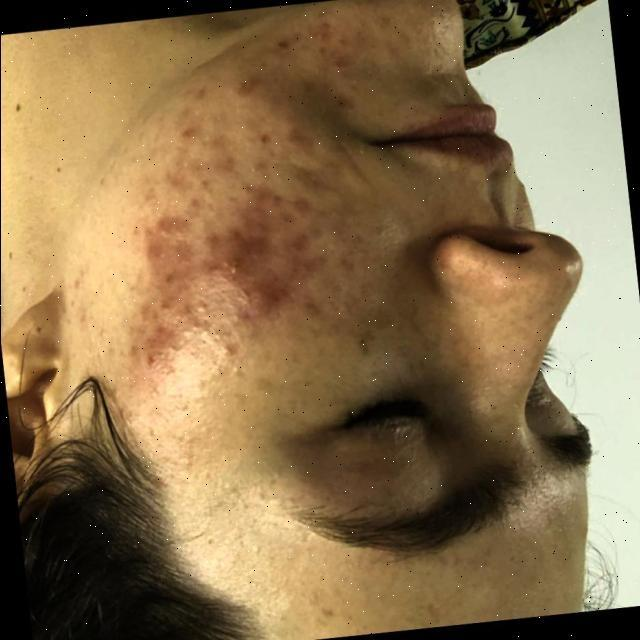Acne: (121, 14, 399, 395)
